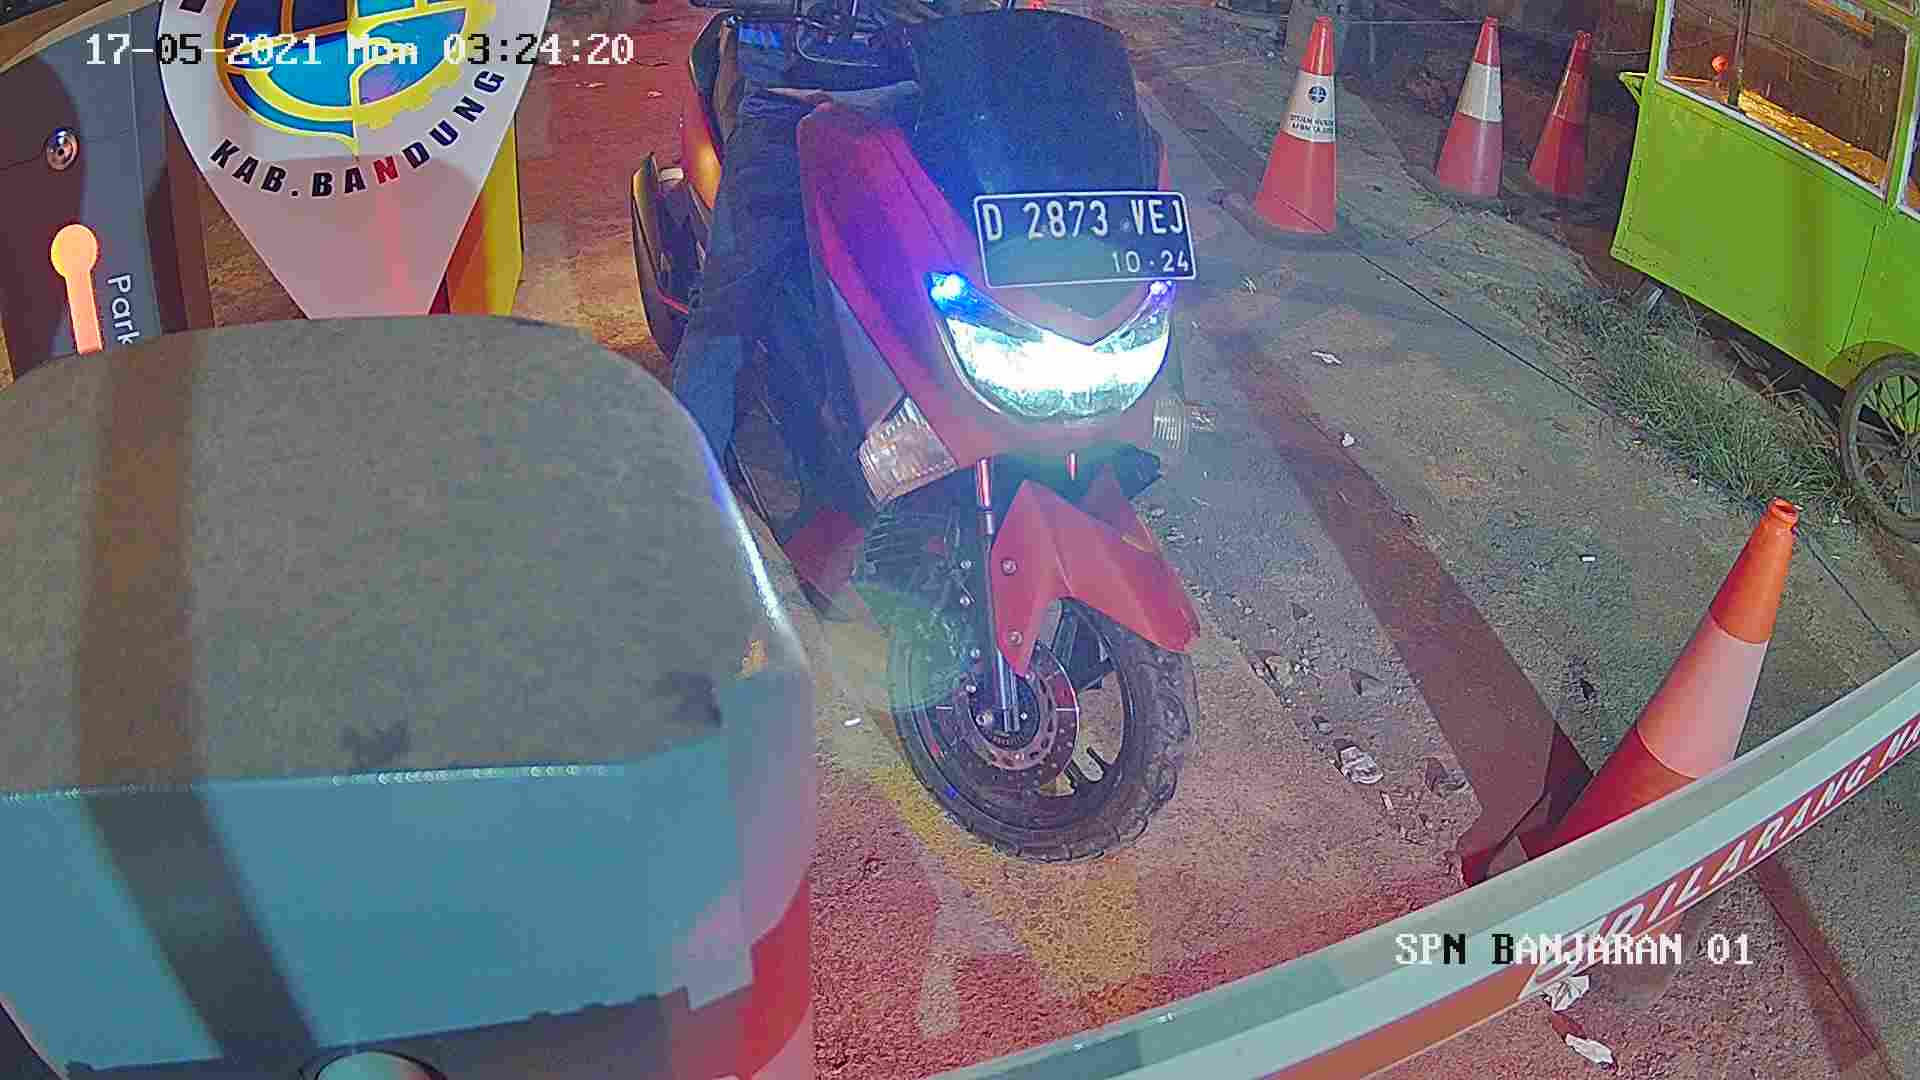motor: (649, 26, 1211, 855)
